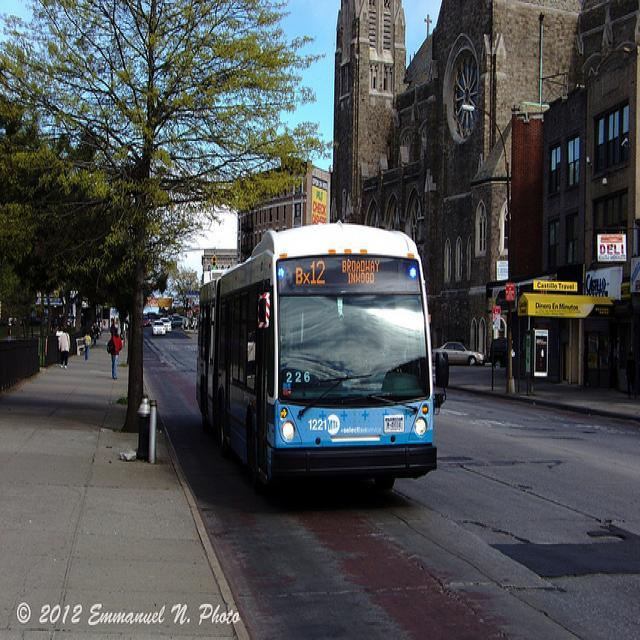fire_hydrant: (136, 388, 151, 459)
